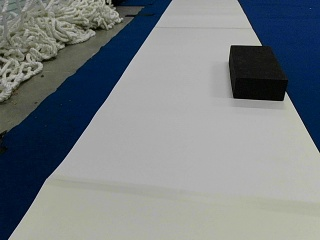block: (228, 44, 287, 100)
